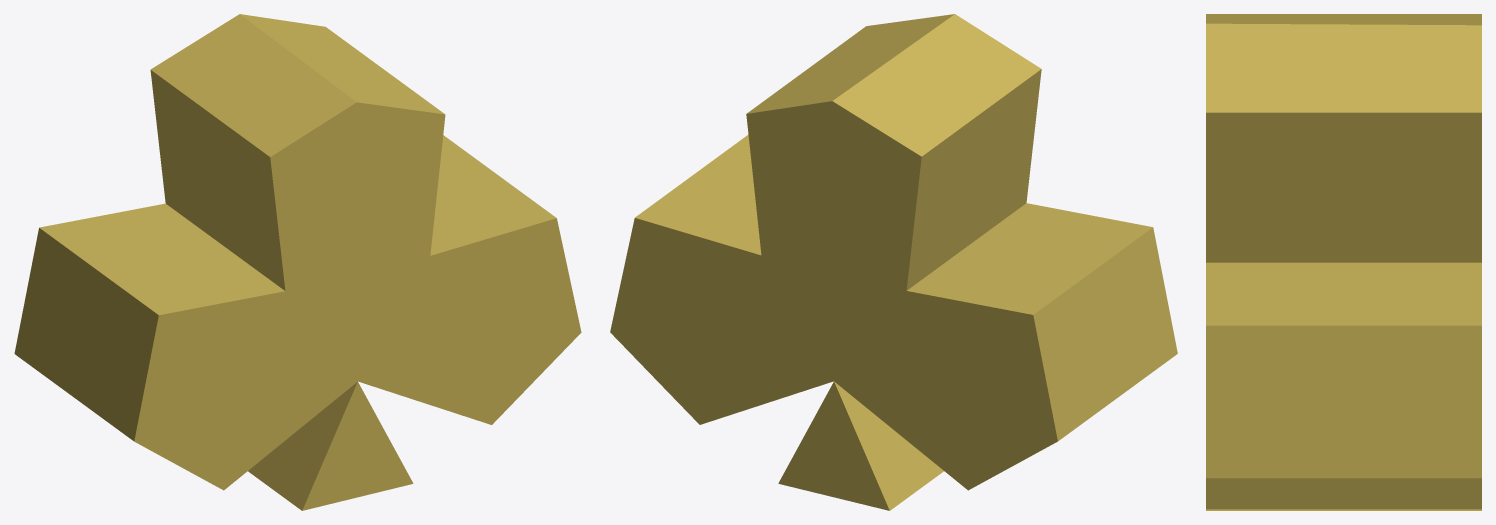
Rendered from Clubs.fbx.
The picture shows the model from 3 angles, left to right: view 1: azimuth 30°, elevation 25°; view 2: azimuth 150°, elevation 25°; view 3: azimuth 270°, elevation 25°; orthographic projection. The views are drawn at different scales.
Parts seen in each view (by area): view 1: Clubs; view 2: Clubs; view 3: Clubs.
Part boxes in pixels (<box>): Clubs: <box>14,14,581,510</box>; Clubs: <box>610,14,1177,510</box>; Clubs: <box>1206,14,1481,510</box>.
Bounding box in the file's own units: 34.21 × 28.89 × 15.87.
